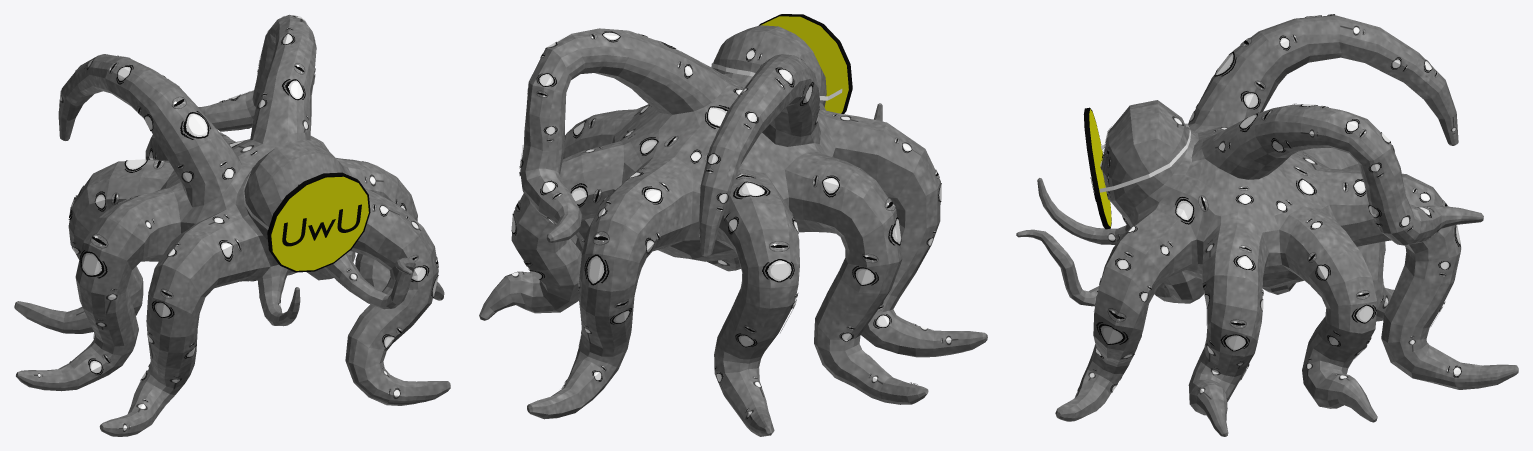
Rendered from shoggoth.glb.
The picture shows the model from 3 angles, left to right: view 1: azimuth 30°, elevation 25°; view 2: azimuth 150°, elevation 25°; view 3: azimuth 270°, elevation 25°; orthographic projection. The views are drawn at different scales.
Parts seen in each view (by area): view 1: shoggoth body.006, shoggoth body.007, mask.001, mask text.001; view 2: shoggoth body.006, shoggoth body.007, mask.001; view 3: shoggoth body.006, shoggoth body.007, mask.001, mask string.001.
Part boxes in pixels (<box>): shoggoth body.006: <box>14,14,450,436</box>; shoggoth body.007: <box>34,15,438,431</box>; mask.001: <box>267,172,370,272</box>; mask text.001: <box>282,204,361,246</box>; shoggoth body.006: <box>479,25,987,436</box>; shoggoth body.007: <box>507,31,957,419</box>; mask.001: <box>759,14,852,113</box>; shoggoth body.006: <box>1016,15,1518,436</box>; shoggoth body.007: <box>1075,14,1461,398</box>; mask.001: <box>1083,107,1111,229</box>; mask string.001: <box>1099,123,1190,192</box>.
Bounding box in the file's own units: 2.38 × 1.72 × 2.48.
Materials: 8 (4 with a texture image).
